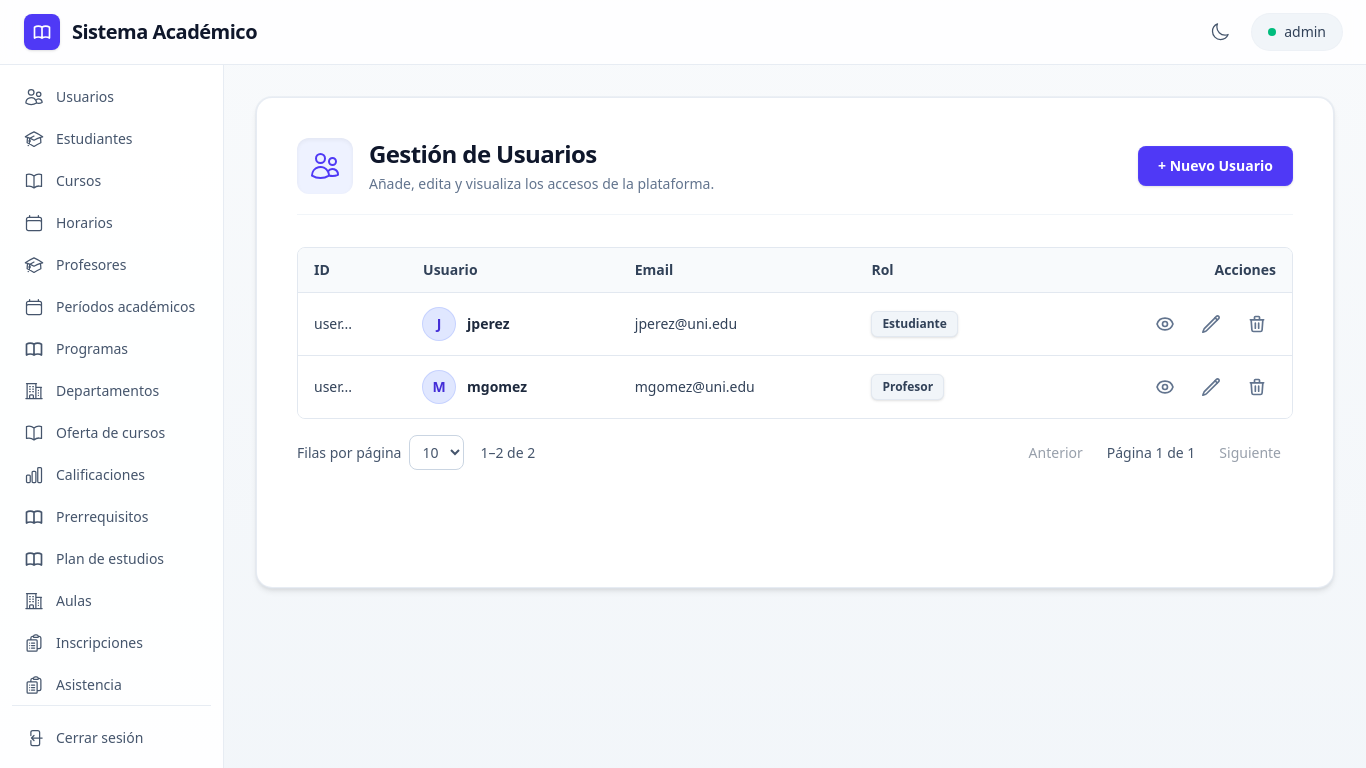
Test case: UsuariosPage › permite abrir el modal para agregar un nuevo usuario
The width and height of the screenshot is (1366, 768).
Check: the text "jperez" is shown, box [467, 314, 510, 334]
Click the button "+ Nuevo Usuario" at x=1216, y=166, box [1138, 146, 1293, 186]
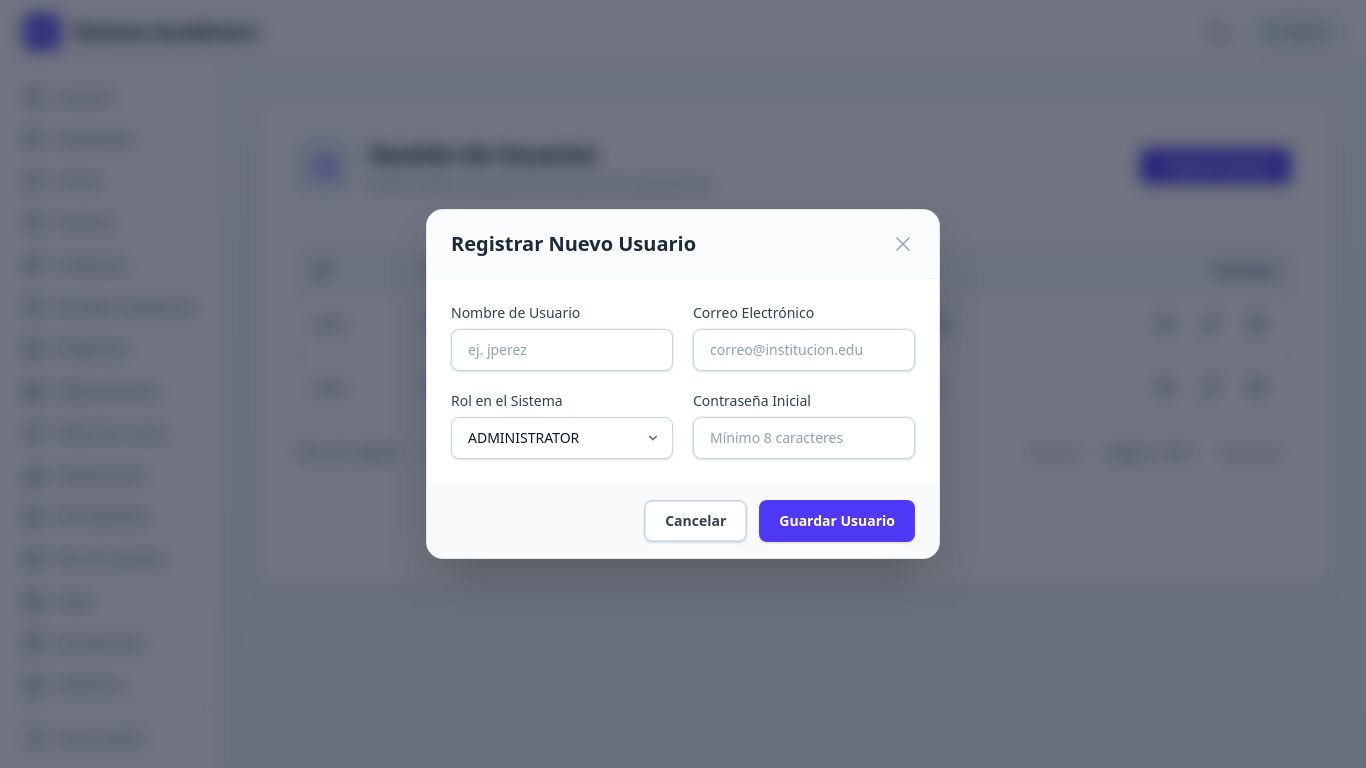
Check: the heading "Registrar Nuevo Usuario" is shown, box [451, 230, 696, 258]
Check: the field labelled "Nombre de Usuario" is shown, box [451, 329, 673, 371]
